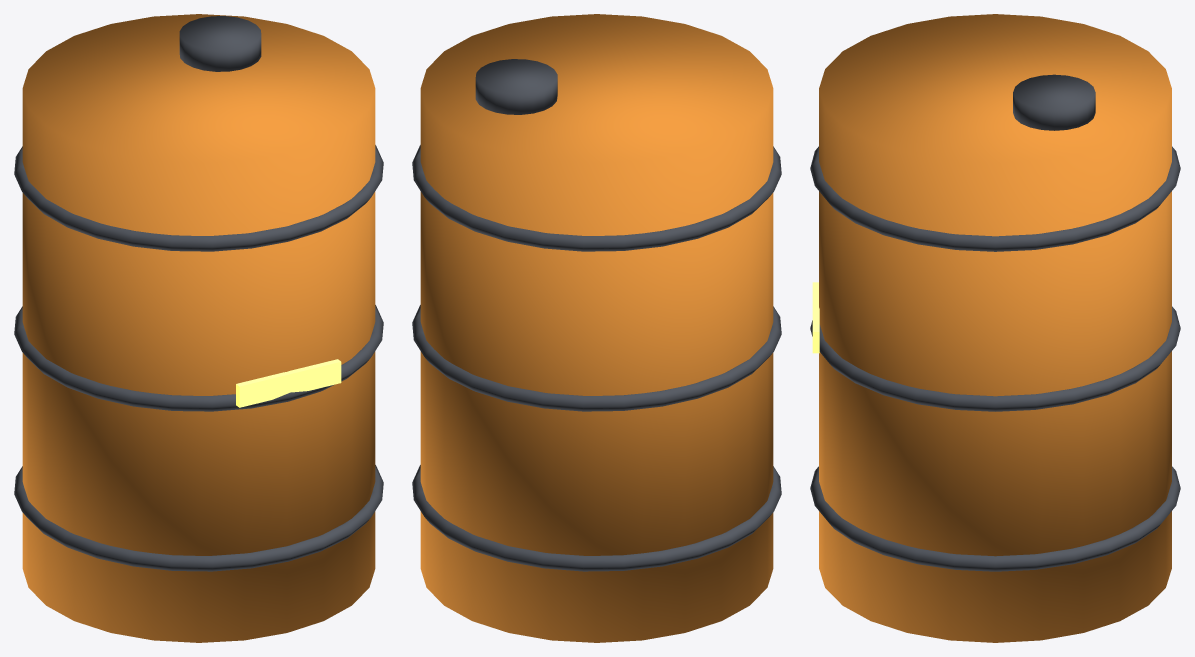
The model's file is canister_fuel_drum.glb.
3 renders of one model, left to right at view 1: azimuth 30°, elevation 25°; view 2: azimuth 150°, elevation 25°; view 3: azimuth 270°, elevation 25°, orthographic.
Parts seen in each view (by area): view 1: GD_canister_fuel_drum__m0, GD_canister_fuel_drum__m1, GD_canister_fuel_drum__m2; view 2: GD_canister_fuel_drum__m0, GD_canister_fuel_drum__m1; view 3: GD_canister_fuel_drum__m0, GD_canister_fuel_drum__m1, GD_canister_fuel_drum__m2.
Part boxes in pixels (<box>): GD_canister_fuel_drum__m0: <box>22,14,375,642</box>; GD_canister_fuel_drum__m1: <box>14,16,383,571</box>; GD_canister_fuel_drum__m2: <box>236,359,341,407</box>; GD_canister_fuel_drum__m0: <box>420,14,773,642</box>; GD_canister_fuel_drum__m1: <box>412,59,781,571</box>; GD_canister_fuel_drum__m0: <box>819,14,1171,642</box>; GD_canister_fuel_drum__m1: <box>810,74,1180,571</box>; GD_canister_fuel_drum__m2: <box>812,282,819,353</box>.
Size of the model in its own units: 0.63 by 0.94 by 0.63.
